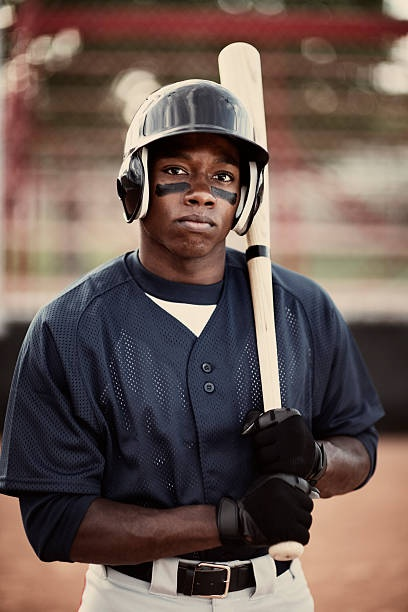bita: (217, 44, 307, 559)
